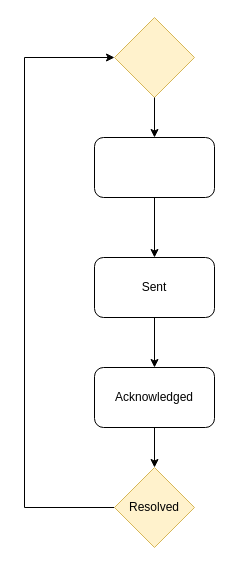
The diagram is 232 pixels wide and 565 high, and some of its shapes have lost their labels. The centre of each missing label's shape, as x and y in pixels:
Generated: [154,167]
Start: [154,57]
